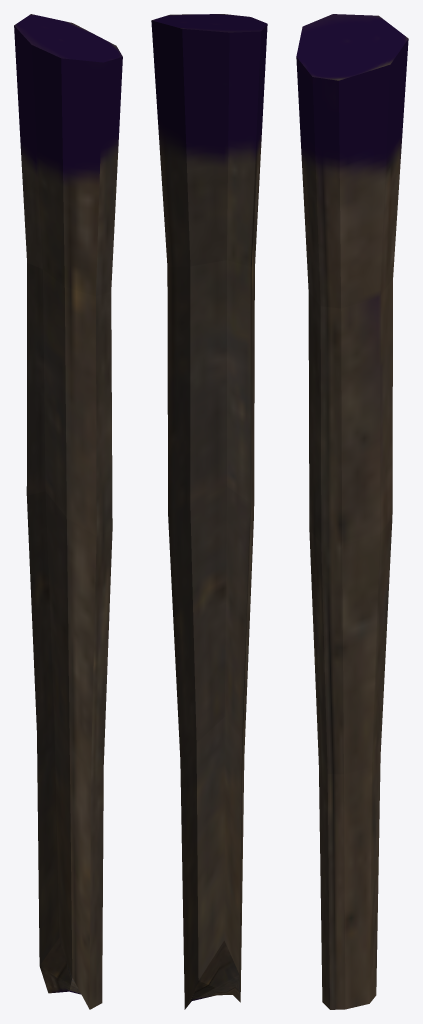
The model's file is torch.glb.
3 views of the same model, side by side, from view 1: azimuth 90°, elevation 25°; view 2: azimuth 150°, elevation 25°; view 3: azimuth 330°, elevation 25° (orthographic). The views are drawn at different scales.
Visible parts, largest first — view 1: Cube; view 2: Cube; view 3: Cube.
Part boxes in pixels (box(x1,y1,x2,y2)): Cube: box(14, 14, 122, 1009); Cube: box(151, 14, 267, 1009); Cube: box(296, 14, 408, 1009).
Size of the model in its own units: 0.1473 by 1.45 by 0.1465.
Materials: 1 (1 with a texture image).
